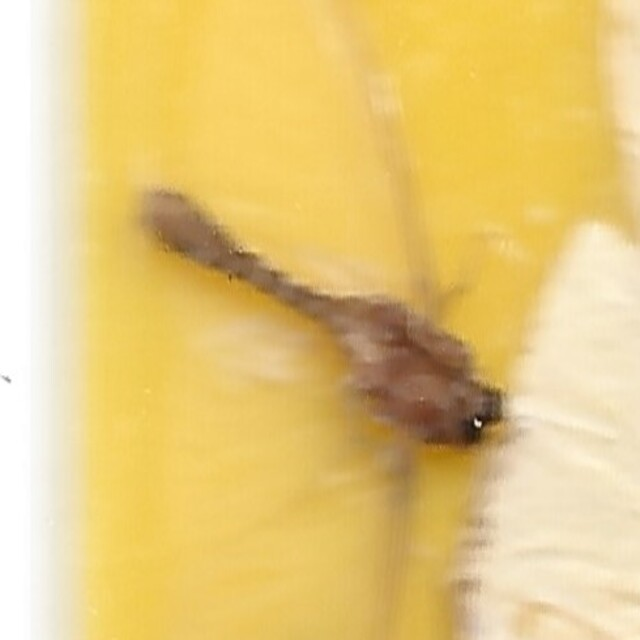Ephemeroptera: (131, 182, 509, 458)
